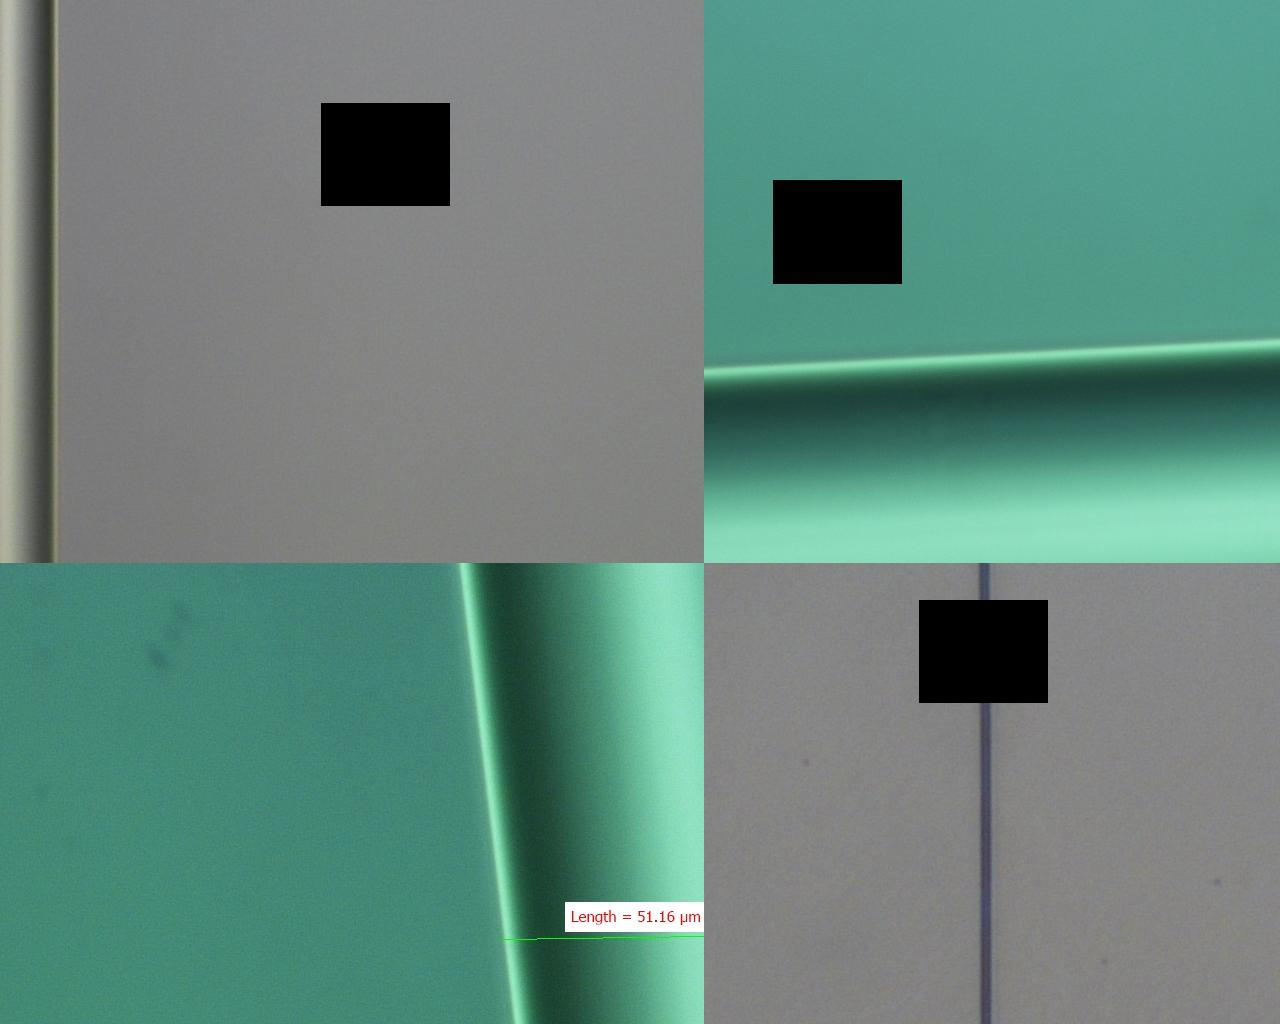fiber: (106, 0, 1216, 1024)
